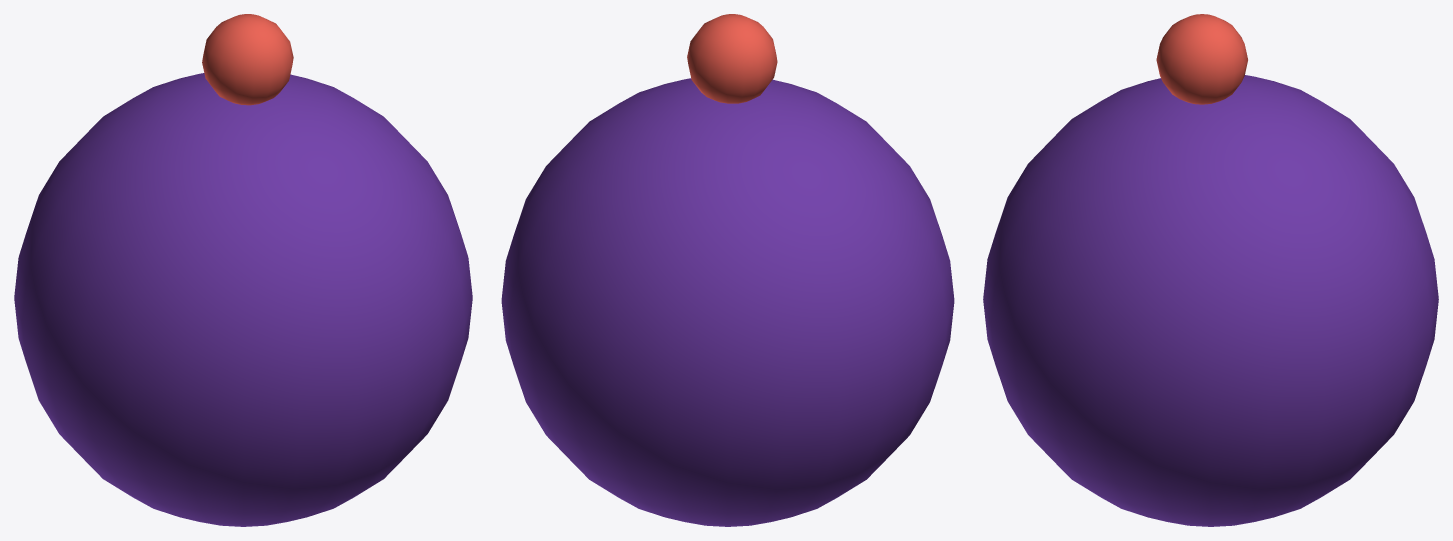
The model's file is BombFruit.fbx.
The picture shows the model from 3 angles, left to right: view 1: azimuth 30°, elevation 25°; view 2: azimuth 150°, elevation 25°; view 3: azimuth 270°, elevation 25°; orthographic projection.
Visible parts, largest first — view 1: Sphere; view 2: Sphere; view 3: Sphere.
Part boxes in pixels (x1,y1,x2,y2): Sphere: (14,14,472,526); Sphere: (501,14,954,526); Sphere: (983,14,1438,526).
Bounding box in the file's own units: 30.57 × 36.08 × 30.57.
